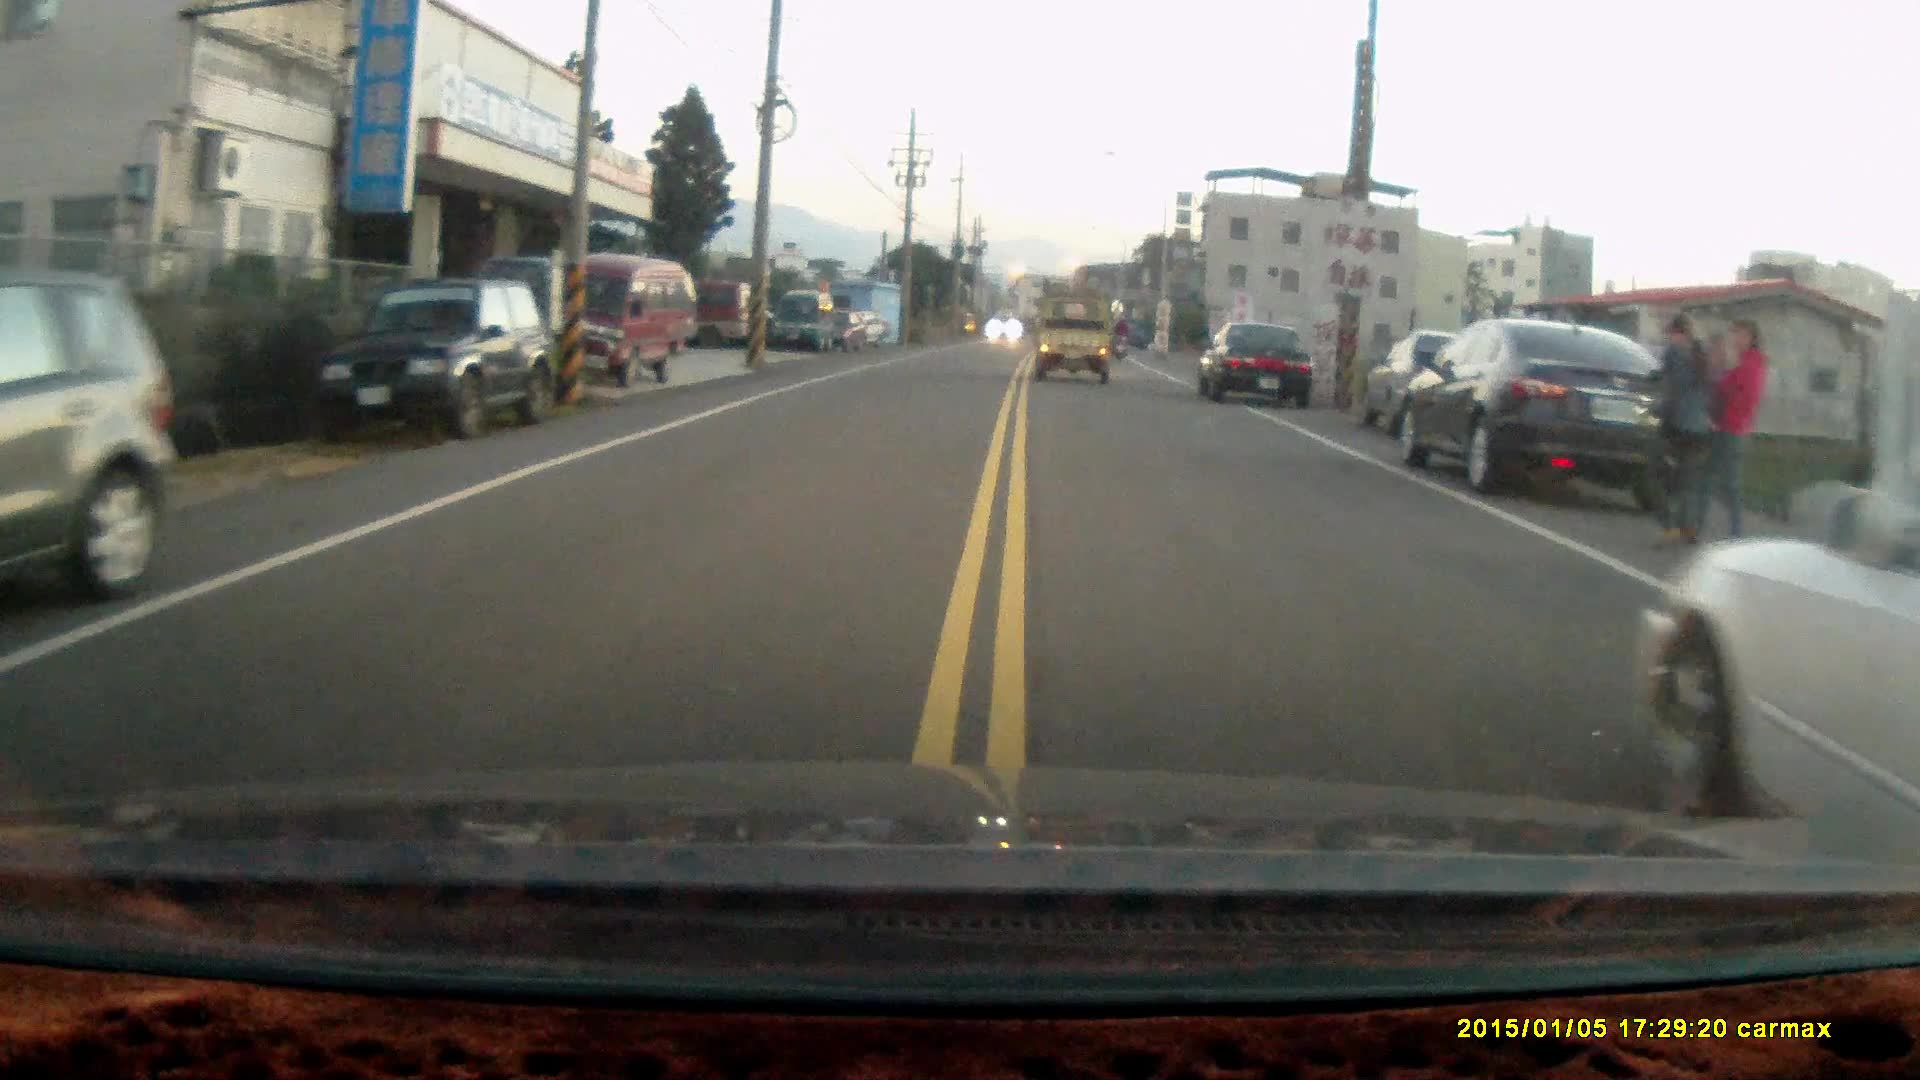pedestrian: (1635, 312, 1716, 549), (1697, 313, 1769, 546)
vehicle: (1636, 409, 1920, 841), (3, 267, 181, 601), (1393, 317, 1711, 496), (321, 278, 550, 445), (528, 252, 702, 384), (1197, 317, 1317, 406), (1035, 290, 1121, 387), (771, 291, 841, 352)
